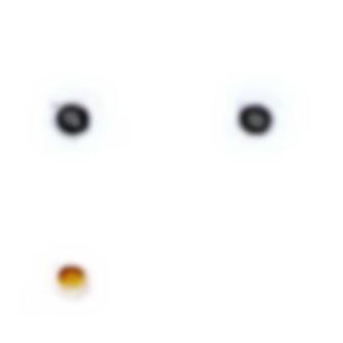cancer: (217, 85, 288, 152), (42, 90, 103, 153)
normal: (48, 250, 106, 309)
